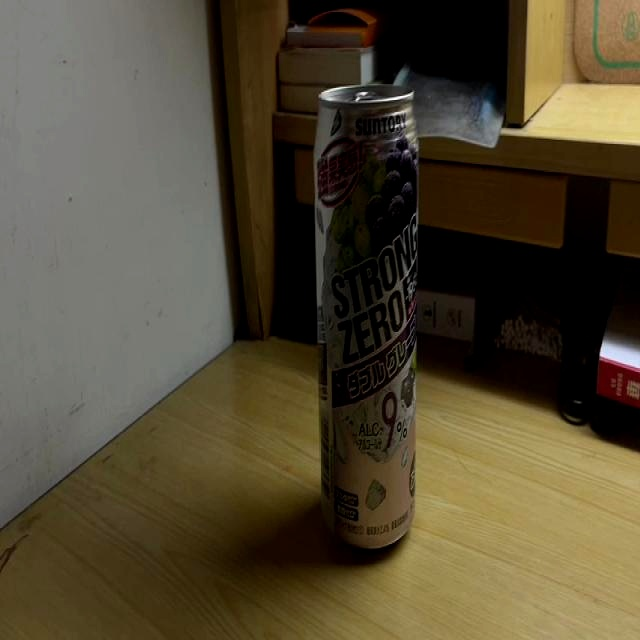Liquor: (312, 86, 420, 557)
